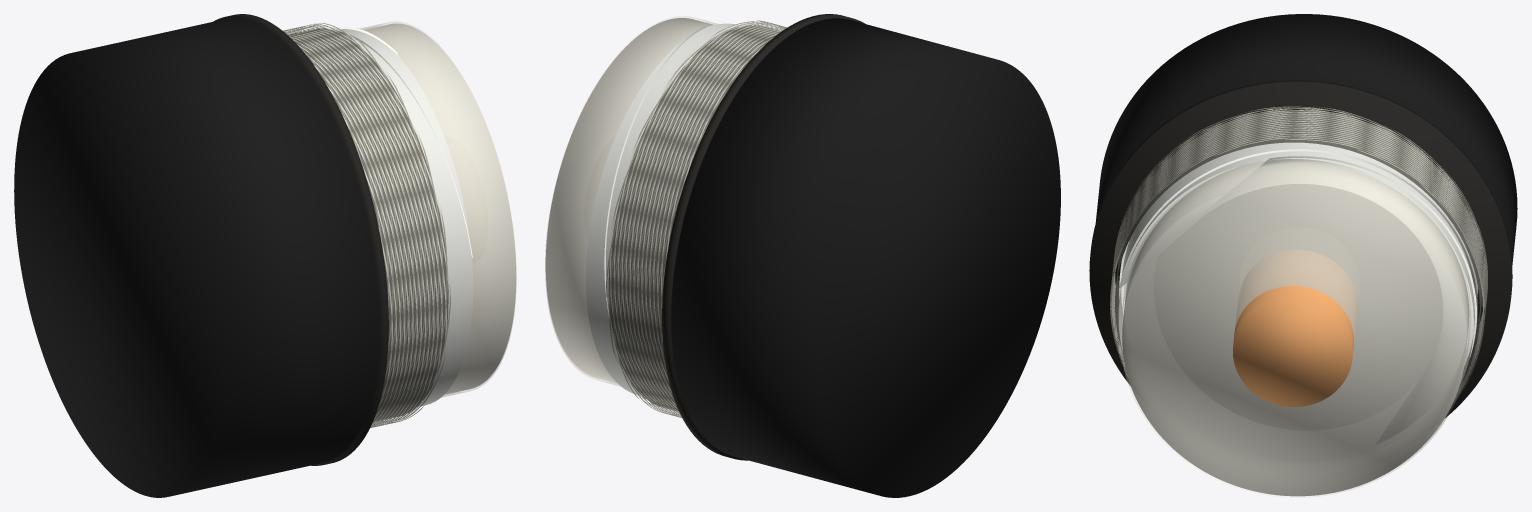
The model's file is rf-lmr1200.glb.
3 views of the same model, side by side, from view 1: azimuth 30°, elevation 25°; view 2: azimuth 150°, elevation 25°; view 3: azimuth 270°, elevation 25° (orthographic). The views are drawn at different scales.
Parts seen in each view (by area): view 1: matte black pvc jacket body, smooth dielectric skin, gas injected foam dielectric, braid dark diamond recess, duobond foil sleeve, jacket cut lip, braid left hand woven carrier 07, braid left hand woven carrier 08, braid left hand woven carrier 05, braid left hand woven carrier 06, braid left hand woven carrier 04, braid left hand woven carrier 03 (+21 smaller); view 2: matte black pvc jacket body, smooth dielectric skin, gas injected foam dielectric, braid dark diamond recess, duobond foil sleeve, jacket cut lip, braid left hand woven carrier 02, subtle foil wrap lap, braid left hand woven carrier 01, braid left hand woven carrier 03, braid left hand woven carrier 16, braid left hand woven carrier 15 (+17 smaller); view 3: gas injected foam dielectric, matte black pvc jacket body, jacket cut lip, solid center conductor continuous, braid dark diamond recess, subtle foil wrap lap, smooth dielectric skin, duobond foil sleeve, braid left hand woven carrier 09, braid left hand woven carrier 08, braid left hand woven carrier 10, braid left hand woven carrier 07 (+22 smaller).
Boxes of the visible parts, box(x1,y1,x2,y2) form: matte black pvc jacket body: box(14, 18, 379, 497); smooth dielectric skin: box(360, 21, 516, 397); gas injected foam dielectric: box(365, 23, 516, 394); braid dark diamond recess: box(288, 28, 448, 421); duobond foil sleeve: box(336, 28, 473, 406); jacket cut lip: box(213, 14, 388, 465); braid left hand woven carrier 07: box(294, 24, 426, 427); braid left hand woven carrier 08: box(315, 23, 430, 427); braid left hand woven carrier 05: box(292, 26, 418, 424); braid left hand woven carrier 06: box(290, 25, 422, 426); braid left hand woven carrier 04: box(288, 26, 414, 421); braid left hand woven carrier 03: box(284, 27, 410, 416); matte black pvc jacket body: box(671, 18, 1060, 497); smooth dielectric skin: box(545, 16, 718, 386); gas injected foam dielectric: box(545, 18, 713, 383); braid dark diamond recess: box(608, 25, 781, 411); duobond foil sleeve: box(585, 23, 740, 395); jacket cut lip: box(662, 14, 865, 460); braid left hand woven carrier 02: box(617, 28, 785, 414); subtle foil wrap lap: box(604, 24, 745, 316); braid left hand woven carrier 01: box(621, 30, 783, 415); braid left hand woven carrier 03: box(613, 27, 786, 402); braid left hand woven carrier 16: box(624, 31, 780, 416); braid left hand woven carrier 15: box(628, 34, 777, 417); gas injected foam dielectric: box(1122, 160, 1469, 496); matte black pvc jacket body: box(1095, 14, 1517, 264); jacket cut lip: box(1089, 80, 1512, 417); solid center conductor continuous: box(1233, 250, 1357, 406); braid dark diamond recess: box(1115, 110, 1482, 387); subtle foil wrap lap: box(1119, 149, 1477, 443); smooth dielectric skin: box(1120, 161, 1470, 497); duobond foil sleeve: box(1118, 142, 1478, 385); braid left hand woven carrier 09: box(1111, 108, 1486, 349); braid left hand woven carrier 08: box(1111, 106, 1487, 347); braid left hand woven carrier 10: box(1110, 110, 1486, 352); braid left hand woven carrier 07: box(1111, 106, 1487, 334).
Size of the model in its own units: 6.71 by 7.8 by 7.89.
